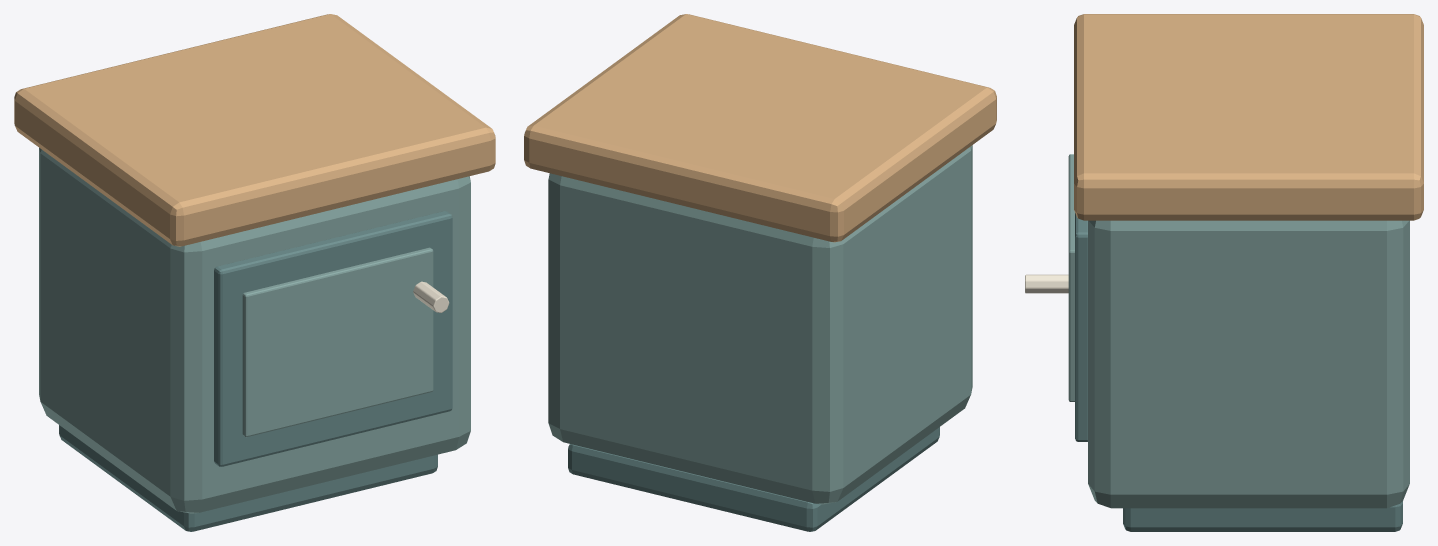
The model's file is counter.glb.
The picture shows the model from 3 angles, left to right: view 1: azimuth 30°, elevation 25°; view 2: azimuth 150°, elevation 25°; view 3: azimuth 270°, elevation 25°; orthographic projection. The views are drawn at different scales.
Parts seen in each view (by area): view 1: counterTop, counterBody, counterDoorInset, counterDoor, counterPlinth, counterHandle; view 2: counterBody, counterTop, counterPlinth; view 3: counterBody, counterTop, counterPlinth, counterDoor, counterDoorInset, counterHandle.
Boxes of the visible parts, bbox=[...] form: counterTop: bbox=[14, 14, 495, 246]; counterBody: bbox=[39, 148, 470, 513]; counterDoorInset: bbox=[242, 247, 433, 437]; counterDoor: bbox=[214, 211, 452, 466]; counterPlinth: bbox=[59, 425, 437, 531]; counterHandle: bbox=[413, 281, 449, 312]; counterBody: bbox=[548, 145, 972, 504]; counterTop: bbox=[524, 14, 996, 242]; counterPlinth: bbox=[568, 427, 939, 531]; counterBody: bbox=[1088, 220, 1409, 508]; counterTop: bbox=[1074, 14, 1423, 220]; counterPlinth: bbox=[1123, 501, 1402, 531]; counterDoor: bbox=[1075, 213, 1087, 441]; counterDoorInset: bbox=[1068, 154, 1074, 401]; counterHandle: bbox=[1025, 274, 1068, 293].
Size of the model in its own units: 1 by 1.04 by 1.
